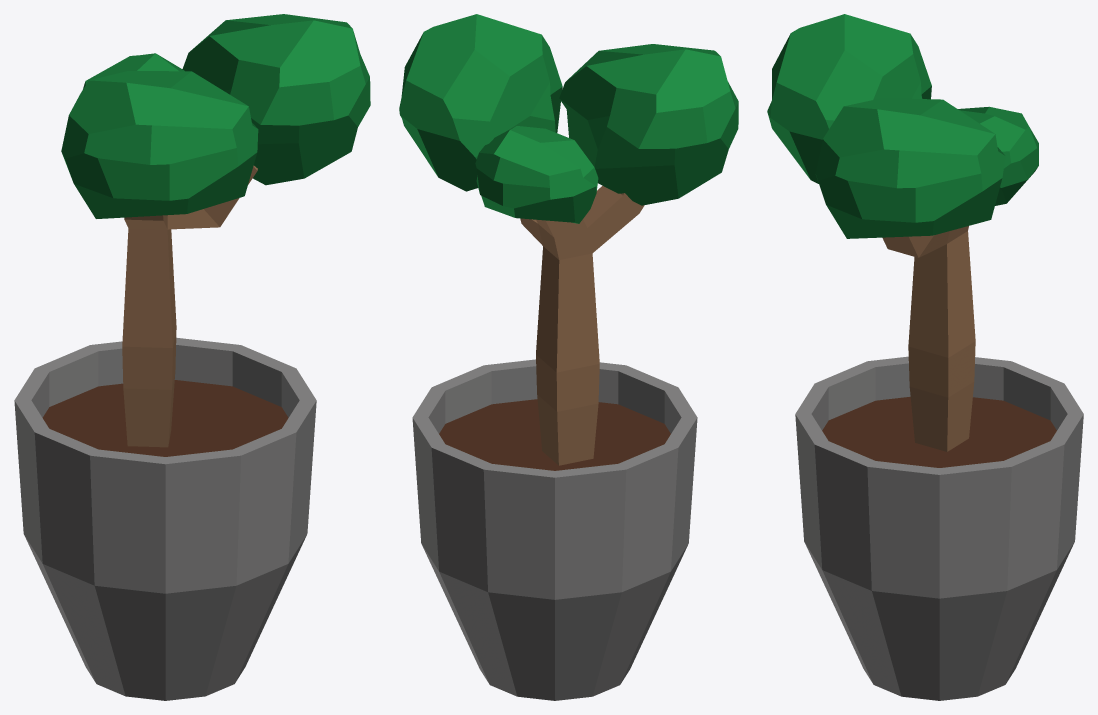
Rendered from FurnAcc_PlantSmall.fbx.
3 views of the same model, side by side, from view 1: azimuth 30°, elevation 25°; view 2: azimuth 150°, elevation 25°; view 3: azimuth 270°, elevation 25° (orthographic). The views are drawn at different scales.
Visible parts, largest first — view 1: FurnAcc_PlantSmall; view 2: FurnAcc_PlantSmall; view 3: FurnAcc_PlantSmall.
Boxes of the visible parts, <box> form: FurnAcc_PlantSmall: <box>14,14,370,700</box>; FurnAcc_PlantSmall: <box>399,14,738,700</box>; FurnAcc_PlantSmall: <box>767,14,1083,700</box>.
Bounding box in the file's own units: 27.67 × 54.72 × 25.6.
